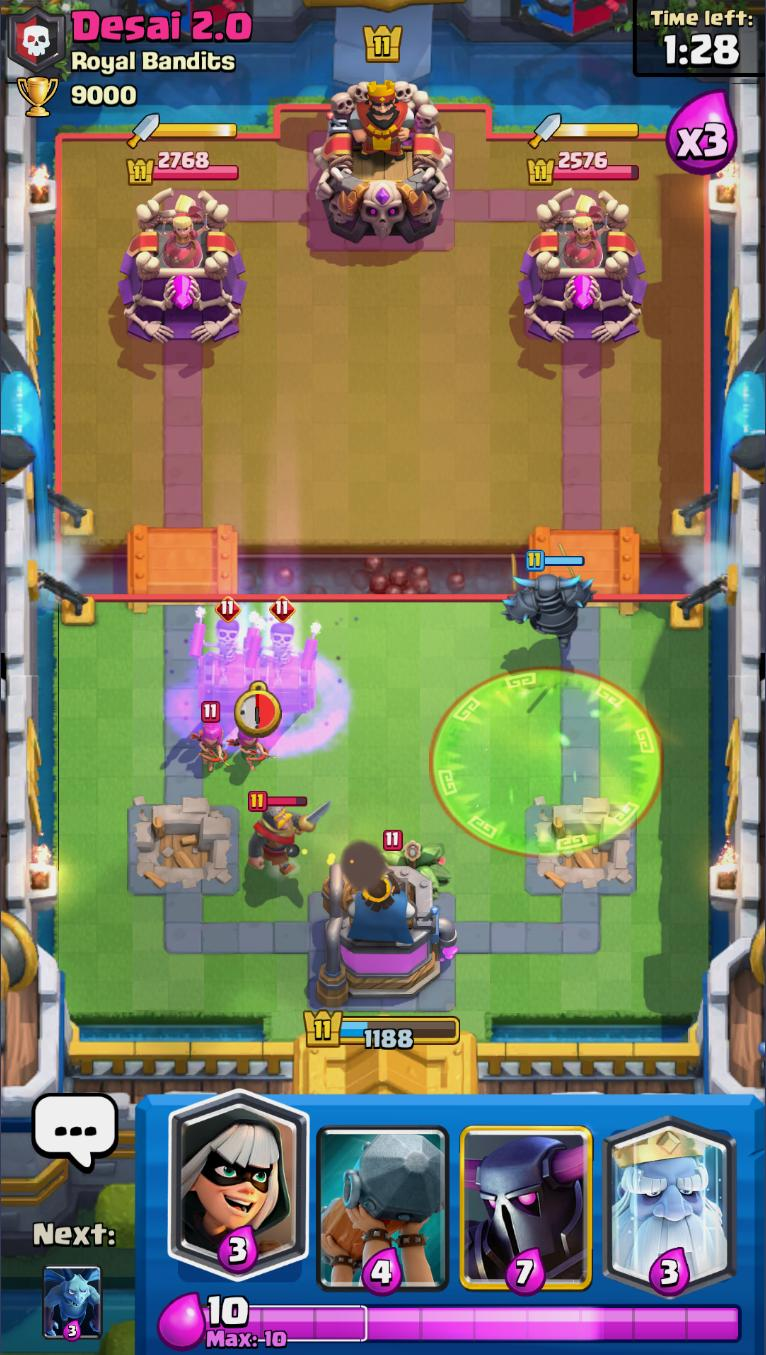Archer: (189, 700, 231, 767), (230, 721, 274, 773)
BanditDeck: (166, 1097, 314, 1297)
BattleRamDeck: (309, 1097, 453, 1291)
Bush: (379, 827, 444, 897)
DaggerDuchess: (157, 193, 210, 270), (560, 194, 611, 266)
Daggers: (124, 113, 241, 150), (527, 113, 641, 146)
Elixir: (210, 1293, 749, 1351)
EnemyTower: (516, 189, 649, 349), (119, 184, 249, 347)
EvoWallBreackers: (189, 593, 263, 710), (250, 596, 321, 717)
GoblinCurse: (434, 666, 661, 857)
KingTower: (314, 76, 456, 246)
Knight: (244, 789, 337, 877)
MinionsNext: (39, 1263, 104, 1343)
MyKingHP: (304, 1010, 461, 1051)
MyKingTower: (311, 856, 461, 1009)
MyPekka: (506, 544, 597, 653)
MyPrincessTowerBrocken: (124, 797, 246, 899), (526, 799, 640, 893)
PekkaDeck: (453, 1097, 599, 1293)
RoyaleGhostDeck: (597, 1097, 741, 1297)
TowerPrincessHP: (526, 147, 641, 187), (127, 150, 243, 187)
